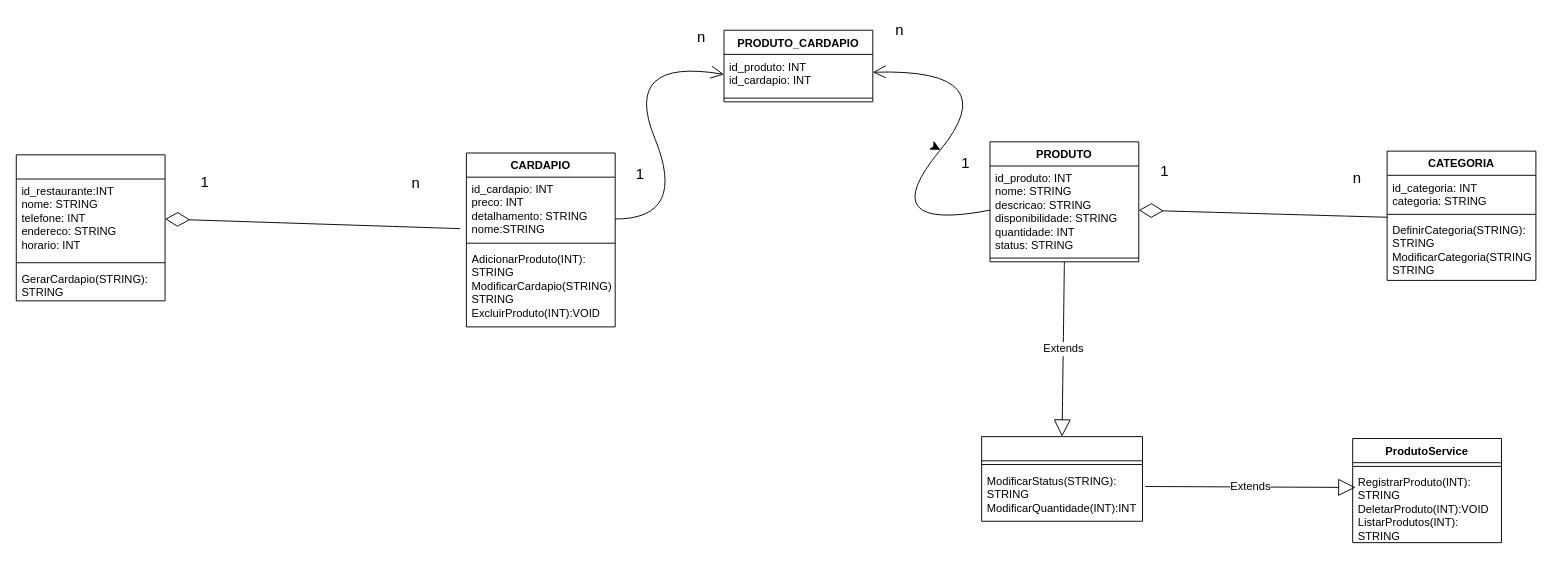
This 1554x561 diagram has some shape labels left out. Each missing label, with the box of its shape:
ProdutoRepository: (981, 436, 1143, 521)
RSTAURANTE: (15, 154, 165, 301)
